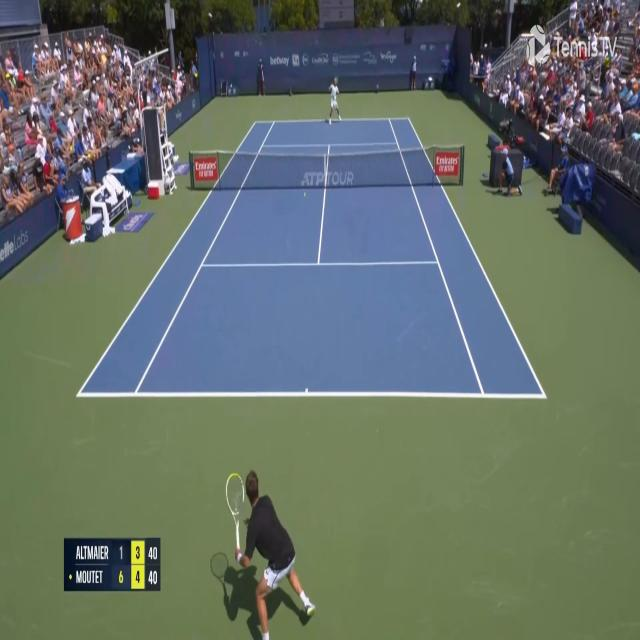tennis-player: (206, 462, 319, 640), (326, 76, 342, 125)
